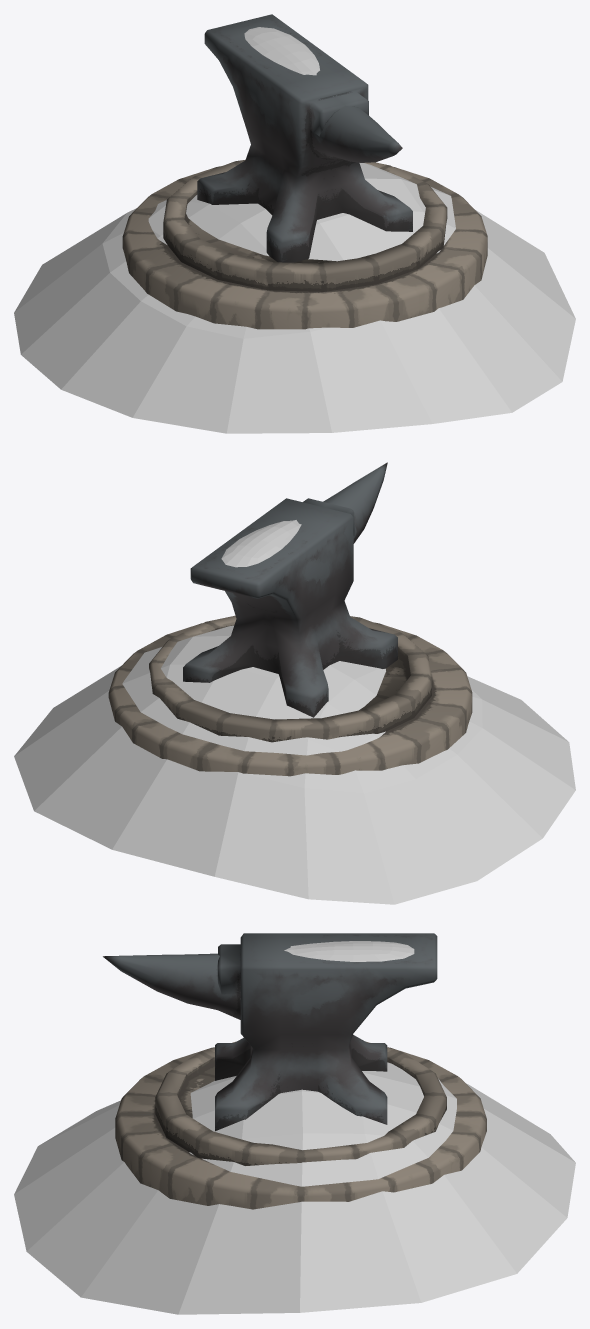
File: AnvilGood_snowy.fbx
The picture shows the model from 3 angles, top to bottom: view 1: azimuth 30°, elevation 25°; view 2: azimuth 150°, elevation 25°; view 3: azimuth 270°, elevation 25°; orthographic projection. The views are drawn at different scales.
Parts seen in each view (by area): view 1: Cube.001, Anvil, Cube.002; view 2: Cube.001, Anvil, Cube.002; view 3: Cube.001, Anvil, Cube.002.
Boxes of the visible parts, <box> form: Cube.001: <box>14,163,575,433</box>; Anvil: <box>122,14,487,329</box>; Cube.002: <box>244,27,319,75</box>; Cube.001: <box>14,625,575,904</box>; Anvil: <box>108,462,472,776</box>; Cube.002: <box>221,520,301,567</box>; Cube.001: <box>14,1062,575,1314</box>; Anvil: <box>103,933,486,1209</box>; Cube.002: <box>284,941,414,961</box>.
Size of the model in its own units: 429 by 230 by 421.
